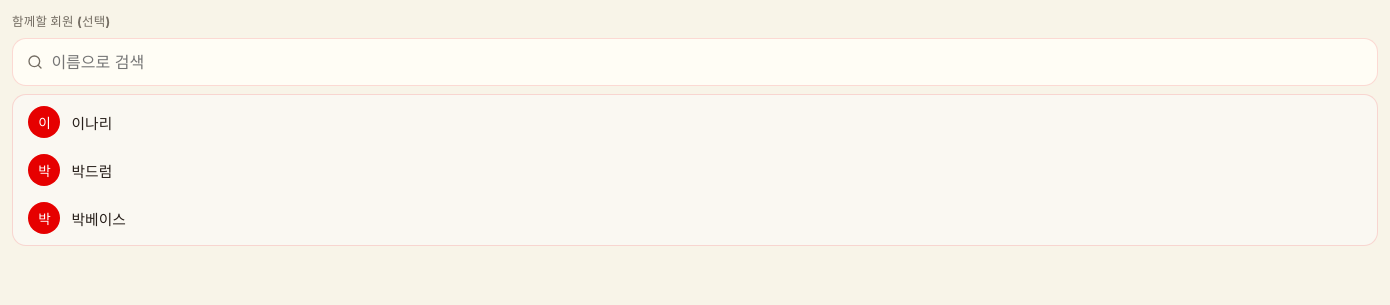
Test case: InviteePicker › 최대 인원을 채우면 나머지는 고를 수 없다
Click the checkbox labelled "이나리": (703, 122) [27, 95, 1378, 149]
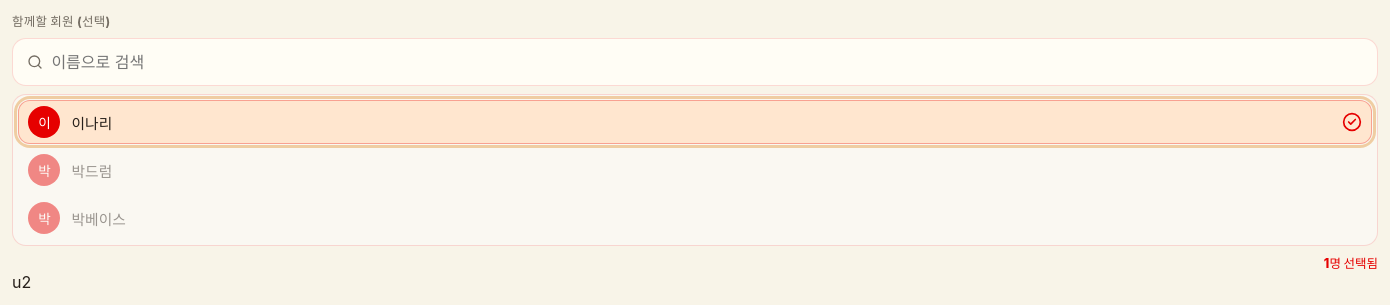
Check: the checkbox labelled "박드럼" is disabled, box [27, 143, 1378, 197]
